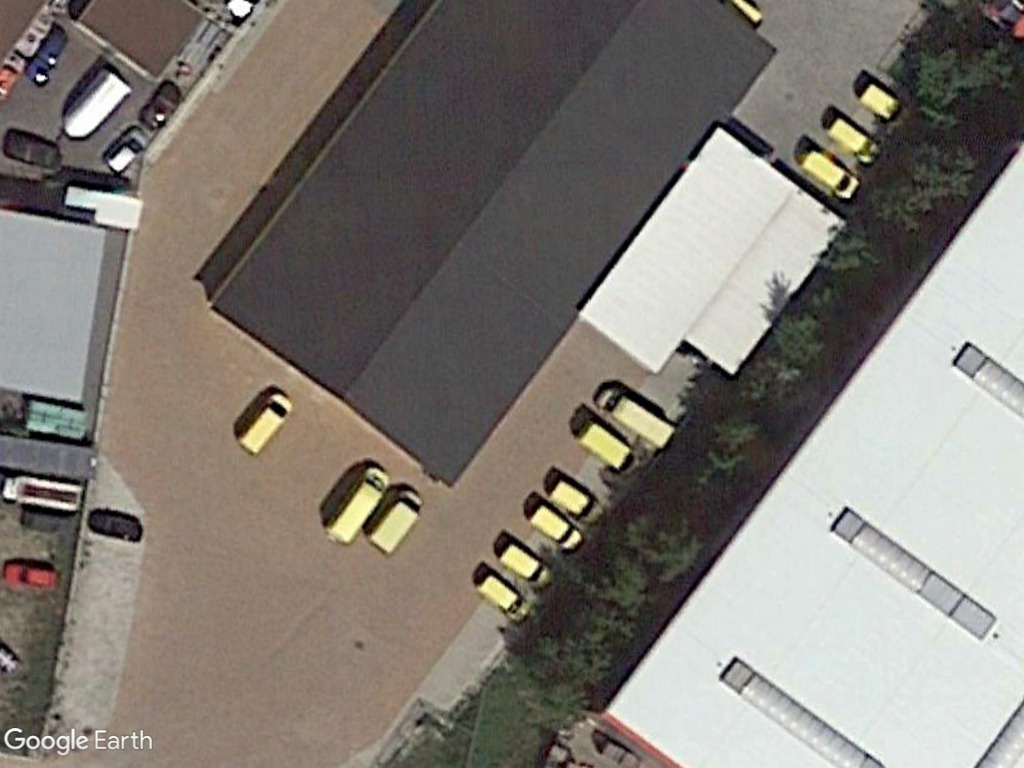car: (103, 124, 152, 174)
van: (323, 462, 388, 548), (594, 387, 678, 450), (367, 486, 428, 558), (232, 391, 294, 460), (577, 421, 644, 480), (796, 144, 860, 204), (525, 498, 587, 559), (543, 475, 606, 526), (476, 570, 532, 625), (496, 540, 554, 589)
